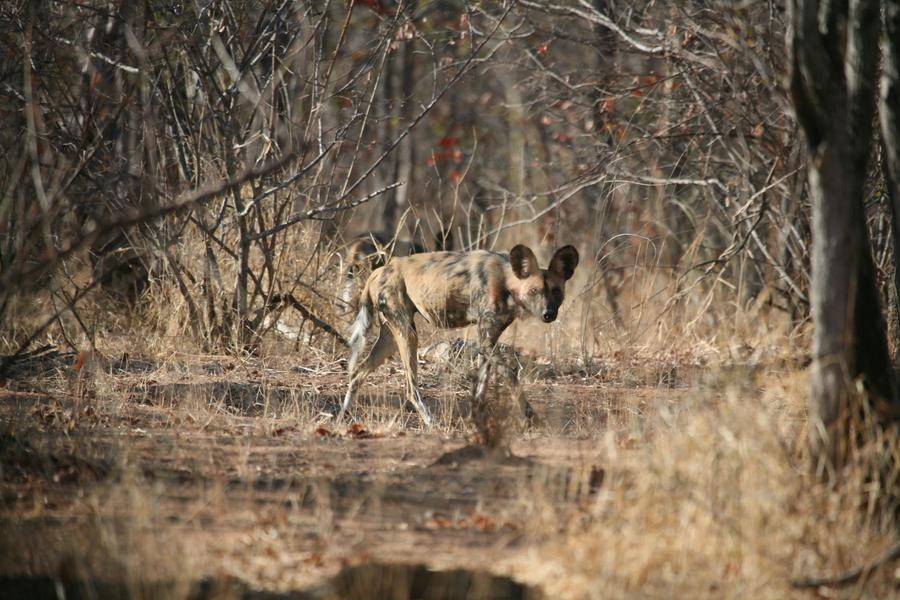wilddog: (351, 248, 569, 360)
